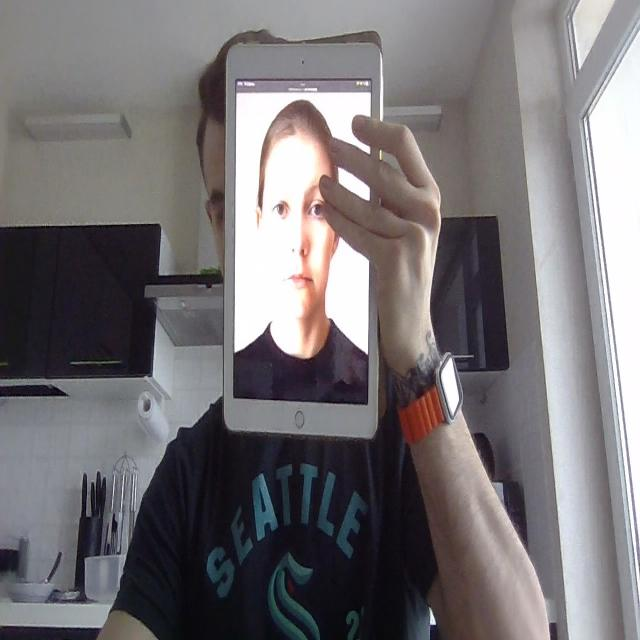device: (222, 39, 386, 454)
